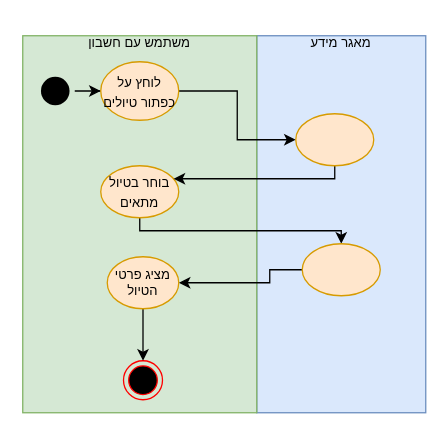
This 448x435 diagram has some shape labels left out. The centre of each missing label's shape, as x and y in pixels:
דוח טיול: the point at 340,269
דוח טיולים: the point at 334,139
